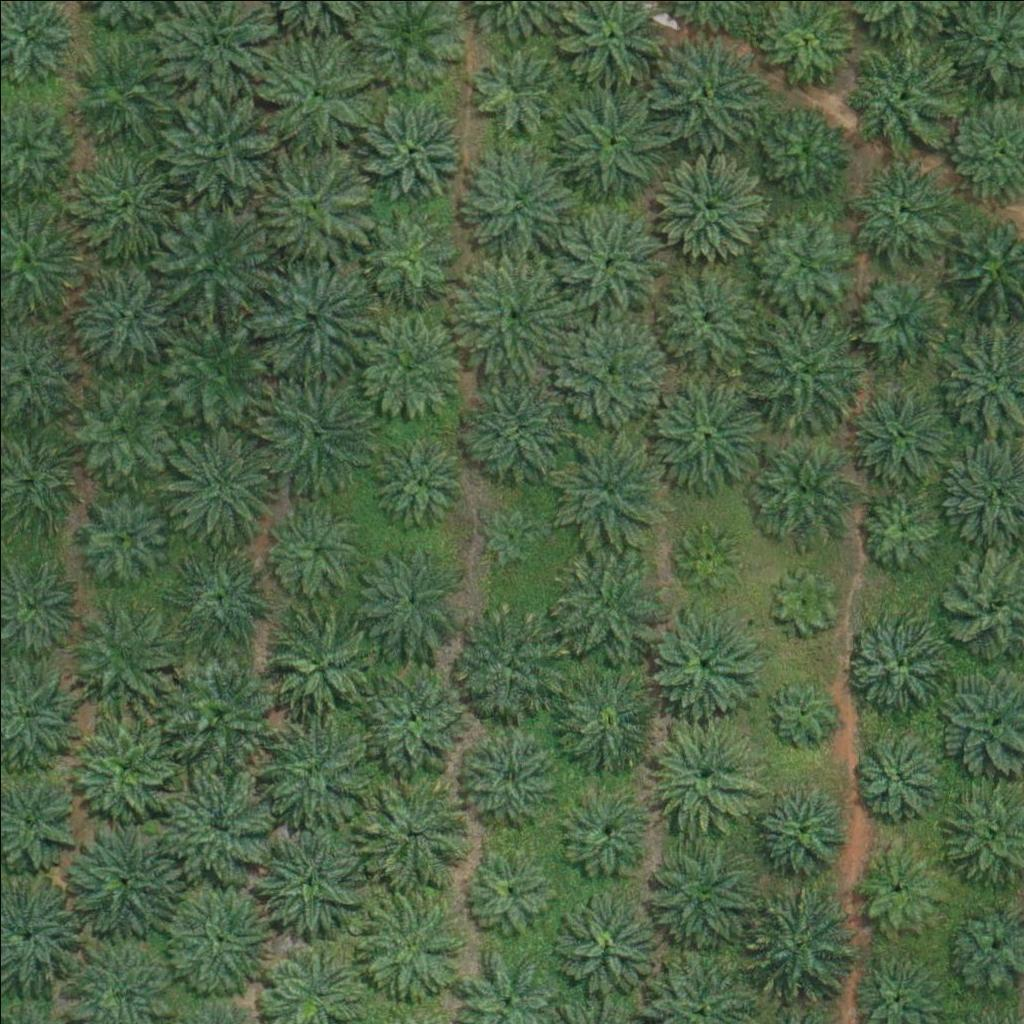Kelapa_Sawit: (746, 883, 859, 997), (164, 317, 277, 431), (258, 381, 371, 495), (352, 537, 465, 651), (843, 38, 956, 152), (157, 207, 270, 321), (740, 775, 853, 888), (648, 713, 761, 826), (351, 885, 464, 998), (359, 776, 472, 889), (67, 828, 180, 941), (65, 707, 178, 820), (254, 708, 367, 821), (263, 609, 376, 722), (258, 260, 371, 373), (354, 657, 467, 770), (555, 436, 668, 549), (551, 313, 664, 426), (646, 602, 759, 715), (649, 376, 762, 489), (649, 146, 762, 259), (556, 201, 669, 314), (553, 87, 666, 200), (257, 147, 370, 260), (162, 88, 275, 201), (644, 839, 756, 953), (547, 771, 659, 885), (70, 256, 182, 370), (453, 602, 565, 716), (550, 659, 662, 773), (62, 148, 174, 262), (546, 889, 658, 1002), (252, 821, 364, 934), (164, 878, 276, 991), (163, 766, 275, 879), (64, 596, 176, 709), (161, 656, 273, 769), (165, 544, 277, 657), (163, 432, 275, 545), (352, 305, 464, 418), (458, 371, 570, 484), (456, 258, 568, 371), (547, 547, 659, 660), (650, 257, 762, 370), (746, 430, 858, 543), (747, 308, 859, 421), (838, 603, 950, 716), (844, 372, 956, 485), (652, 33, 764, 146), (462, 140, 574, 253), (256, 35, 368, 148), (65, 34, 177, 147), (70, 482, 170, 583), (70, 379, 170, 480), (848, 267, 948, 368), (748, 212, 848, 313), (747, 102, 847, 203), (463, 34, 563, 135), (359, 212, 459, 313), (363, 101, 463, 202), (456, 724, 556, 824), (266, 501, 366, 601), (368, 432, 468, 532), (845, 163, 945, 263), (853, 727, 941, 815), (856, 487, 944, 575), (854, 843, 941, 931), (463, 846, 550, 934), (675, 525, 738, 588), (767, 679, 830, 742), (772, 568, 835, 631), (479, 505, 541, 568)
